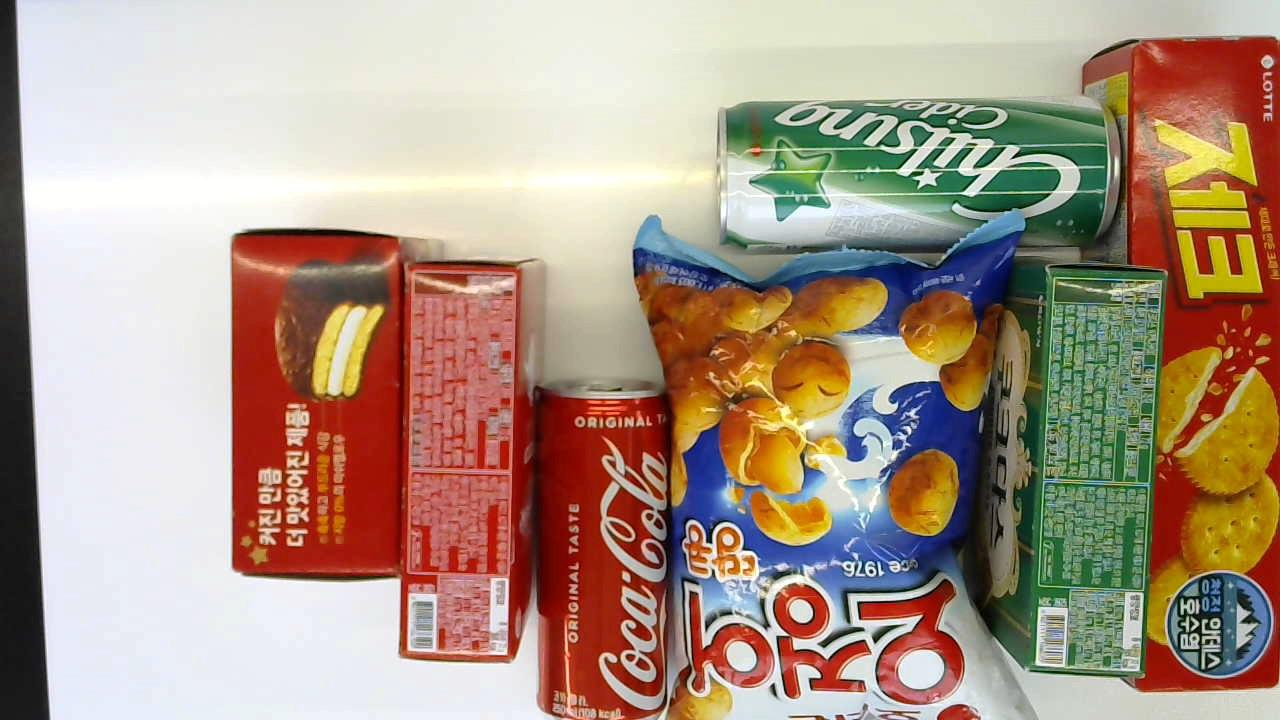chocopie: (228, 218, 436, 583)
cidar: (719, 95, 1119, 248)
coke: (531, 373, 673, 720)
couque_coffee: (957, 259, 1169, 677)
couque_white: (396, 253, 553, 667)
squid_peanut: (640, 251, 1030, 720)
zec: (1081, 35, 1280, 692)
